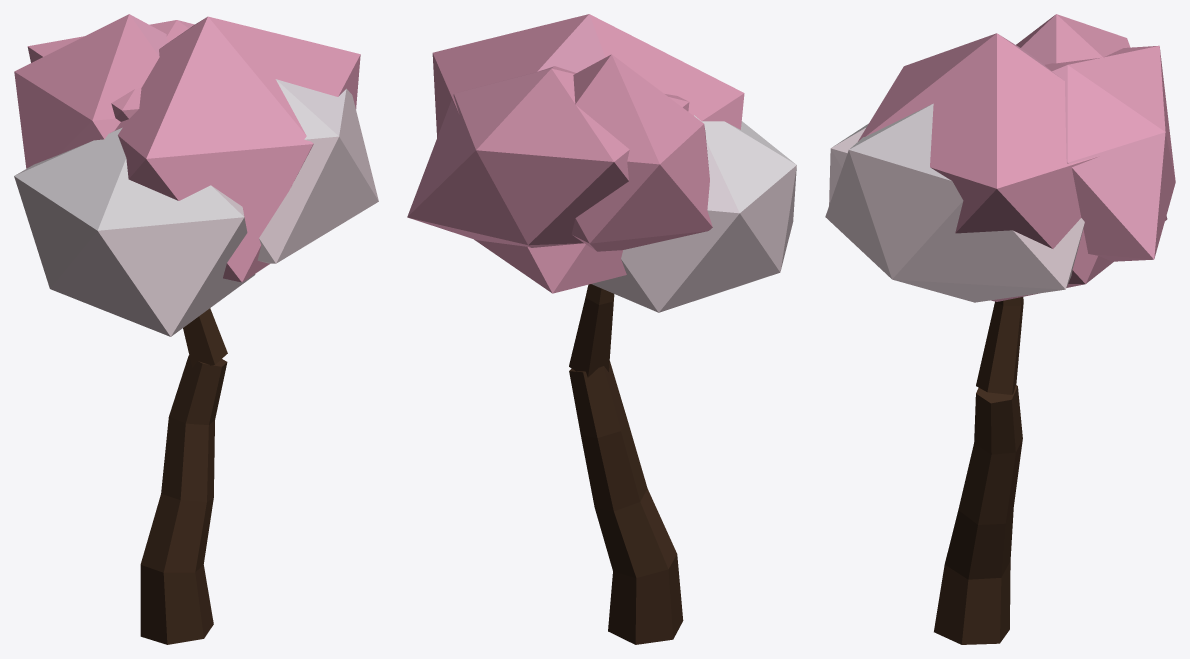
The model's file is Tree_Blossom_C.glb.
The picture shows the model from 3 angles, left to right: view 1: azimuth 30°, elevation 25°; view 2: azimuth 150°, elevation 25°; view 3: azimuth 270°, elevation 25°; orthographic projection. The views are drawn at different scales.
Visible parts, largest first — view 1: Tree_Blossom_C; view 2: Tree_Blossom_C; view 3: Tree_Blossom_C.
Part boxes in pixels (box(x1,y1,x2,y2)): Tree_Blossom_C: box(14, 14, 378, 644); Tree_Blossom_C: box(407, 14, 796, 644); Tree_Blossom_C: box(825, 14, 1175, 644).
Bounding box in the file's own units: 2.17 × 3.82 × 1.95.
